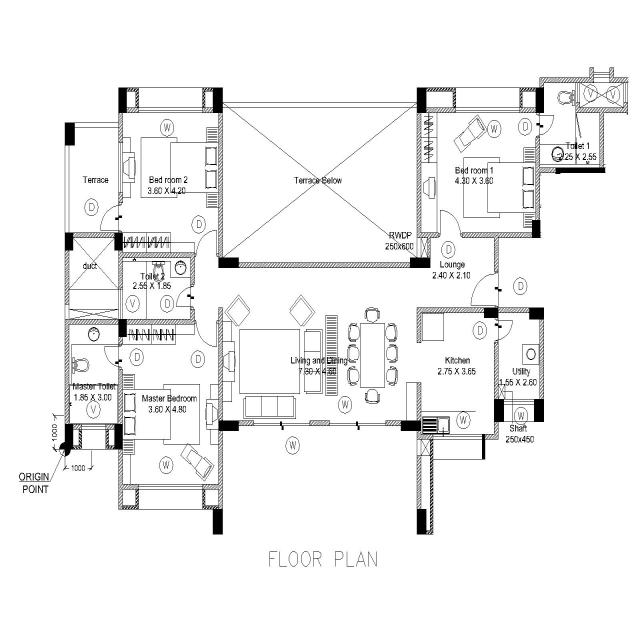Column: (211, 84, 224, 116), (217, 418, 240, 434), (416, 86, 428, 115), (533, 396, 545, 424), (212, 508, 224, 536), (64, 120, 76, 148), (117, 86, 129, 114), (416, 508, 428, 536), (493, 398, 505, 424), (534, 87, 545, 115), (218, 256, 240, 270), (556, 167, 606, 173), (64, 422, 74, 452), (114, 422, 124, 451), (409, 256, 431, 269), (528, 305, 545, 321), (113, 230, 125, 252), (482, 306, 500, 320), (400, 420, 421, 432), (531, 218, 542, 240), (117, 317, 128, 339), (64, 230, 75, 252)
Door: (494, 269, 498, 309), (494, 316, 500, 342), (195, 252, 219, 258), (440, 232, 462, 238), (190, 283, 194, 310), (536, 111, 540, 137), (194, 320, 218, 324), (118, 345, 122, 369)
Opening: (415, 338, 424, 386), (218, 264, 224, 308)
Ventilator: (117, 287, 124, 320), (81, 423, 107, 431), (574, 82, 581, 105), (624, 80, 628, 104)
Window: (138, 483, 204, 491), (252, 418, 311, 426), (432, 432, 482, 440), (329, 420, 388, 426), (502, 398, 536, 406)
